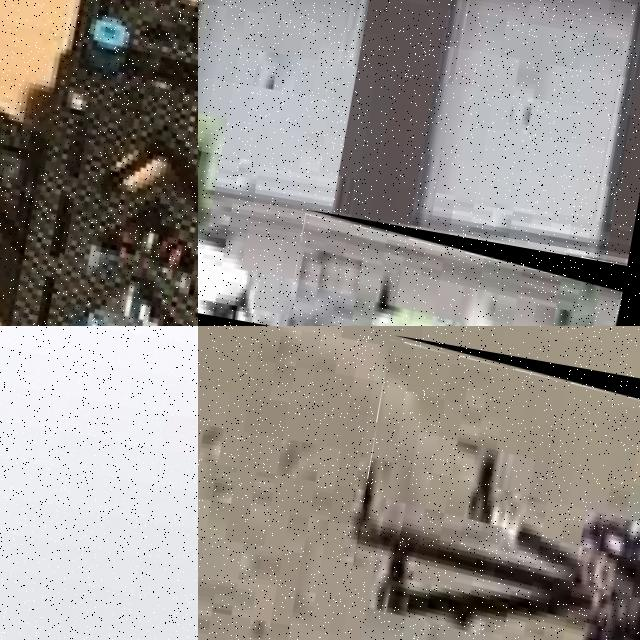0: (293, 334, 640, 640), (284, 209, 626, 326)
drone: (0, 0, 198, 326)
